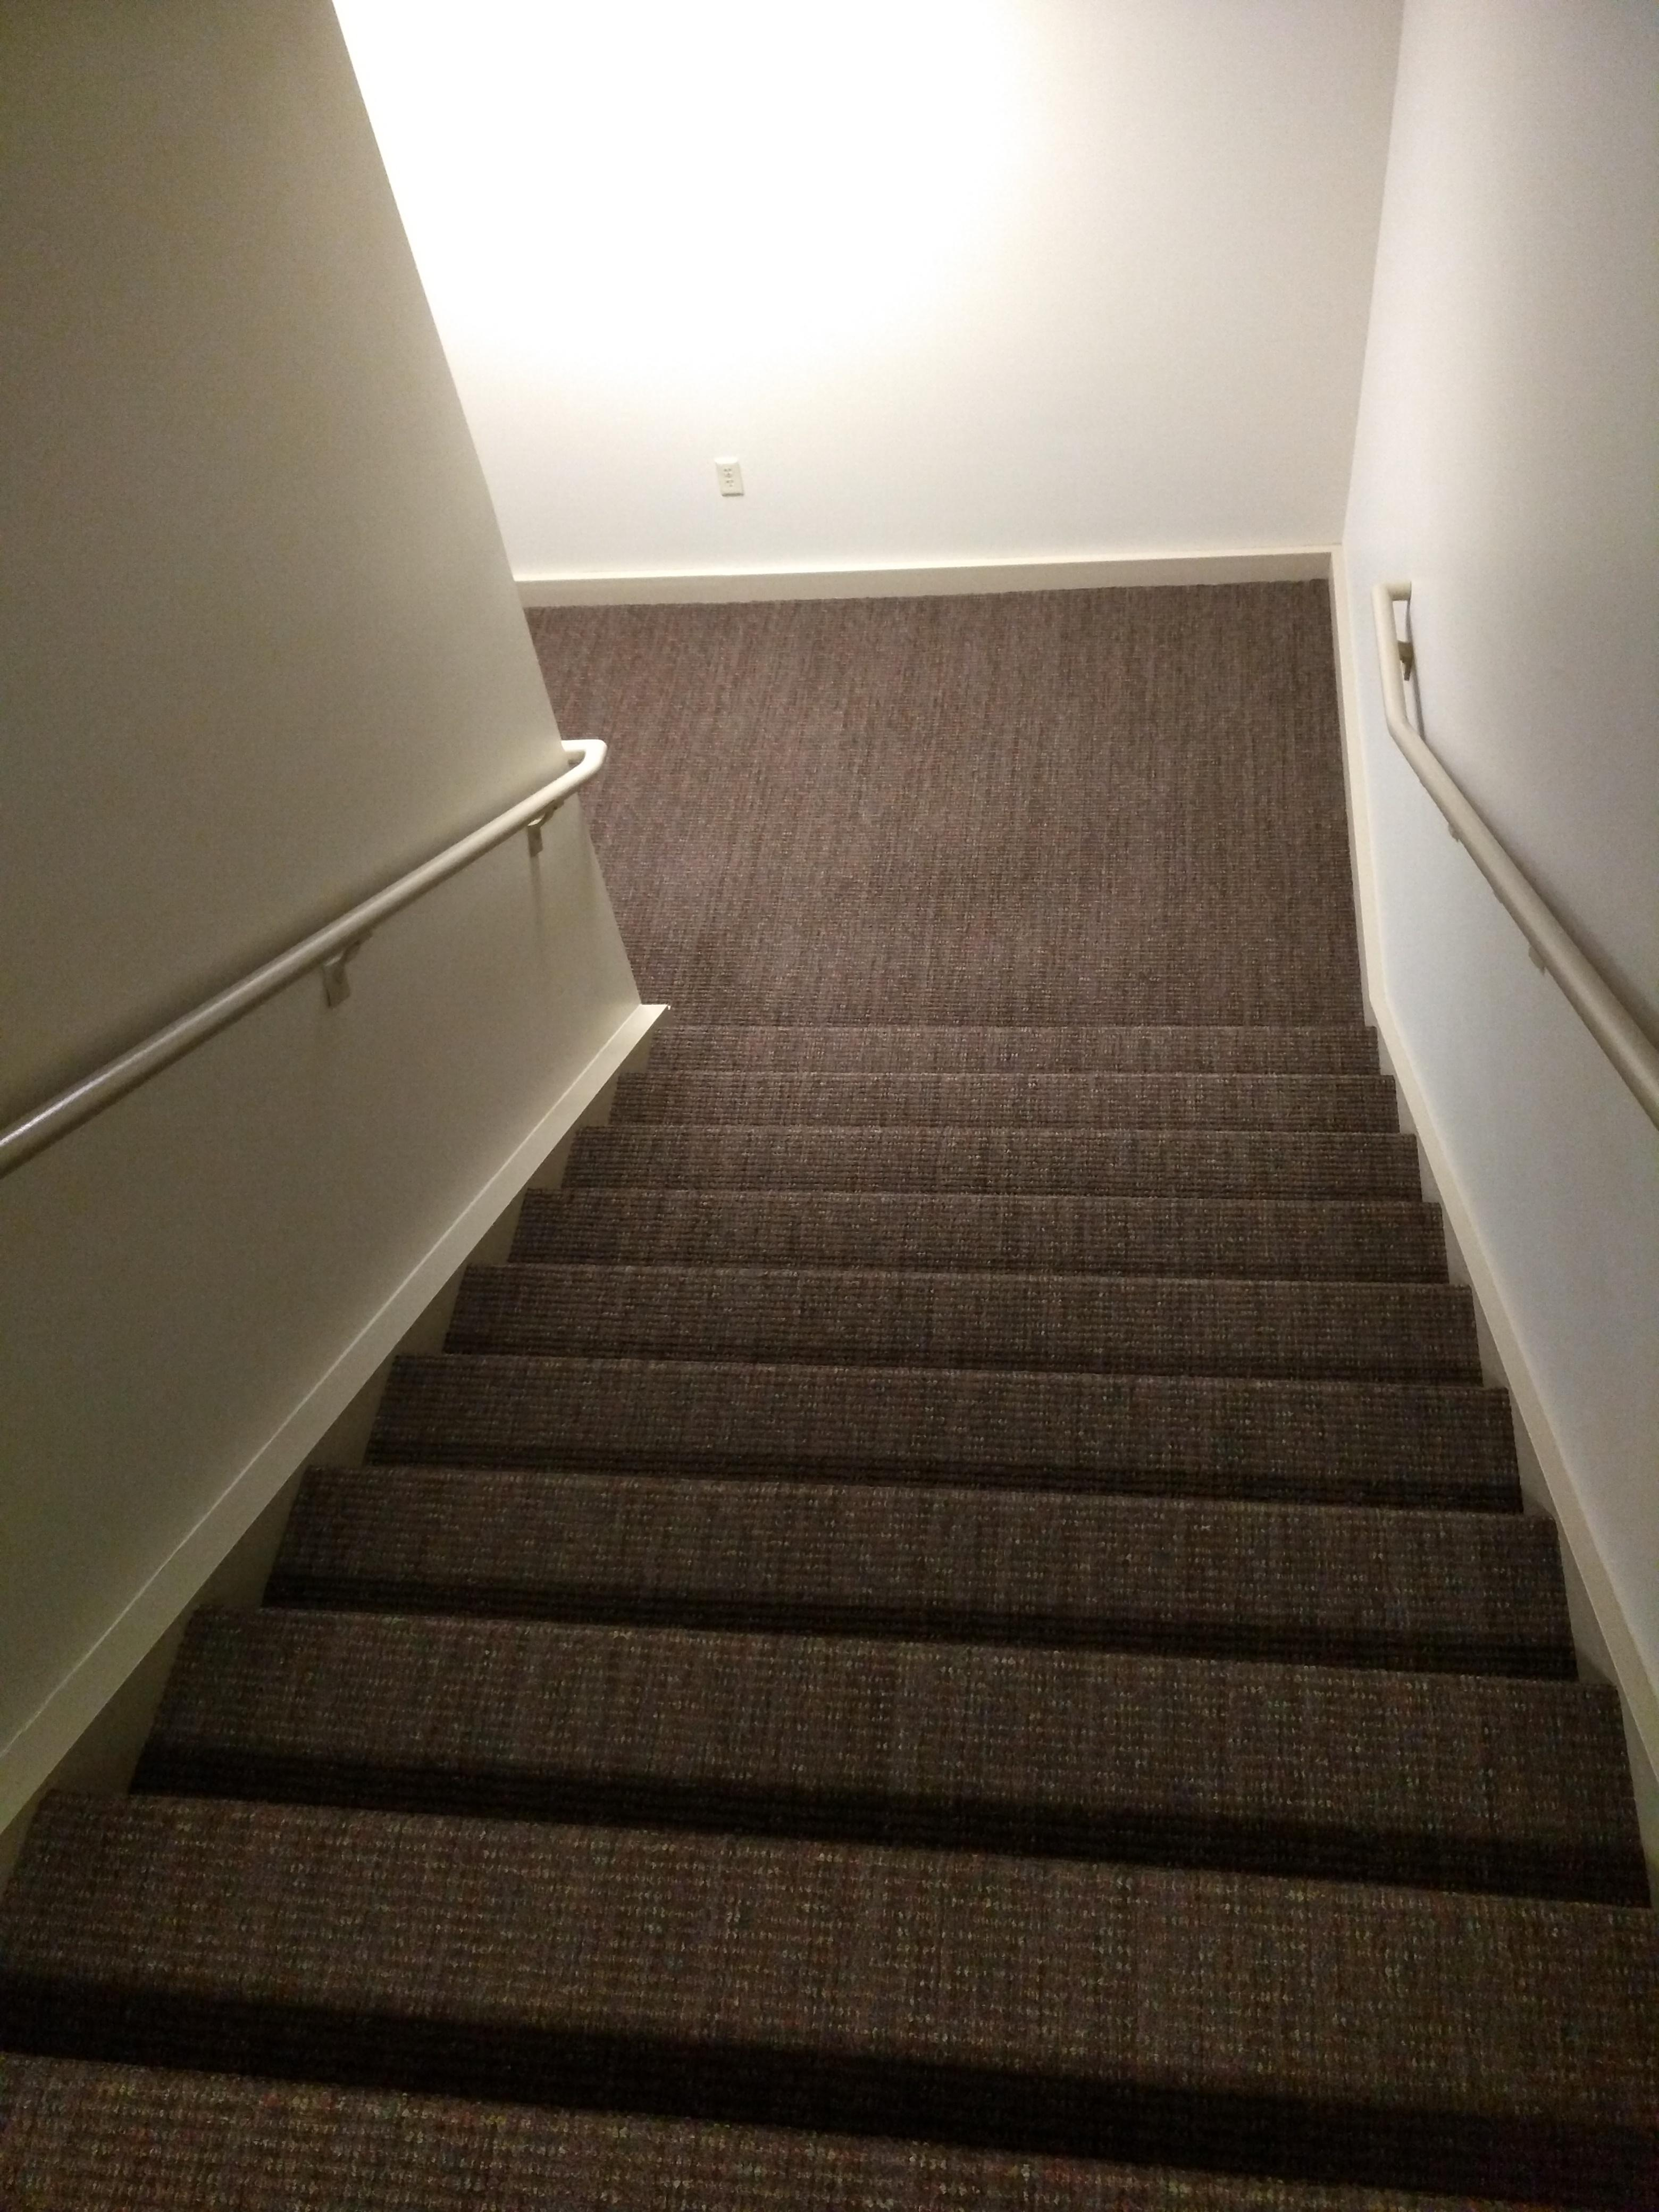stairs_down: (19, 1014, 1659, 2212)
